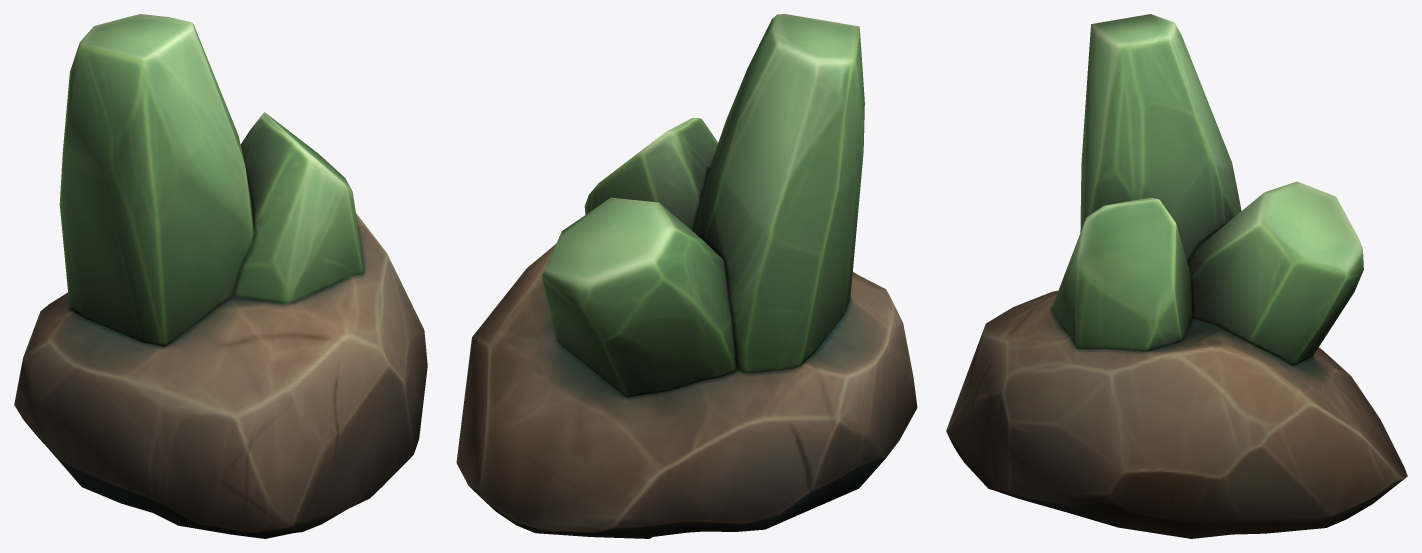
Rendered from SM_Gem_Jade_006.fbx.
3 views of the same model, side by side, from view 1: azimuth 30°, elevation 25°; view 2: azimuth 150°, elevation 25°; view 3: azimuth 270°, elevation 25° (orthographic). The views are drawn at different scales.
Visible parts, largest first — view 1: SM_Gem_Jade_006; view 2: SM_Gem_Jade_006; view 3: SM_Gem_Jade_006.
Boxes of the visible parts, x1,y1,x2,y2 form: SM_Gem_Jade_006: (14,14,427,538); SM_Gem_Jade_006: (456,14,917,538); SM_Gem_Jade_006: (946,14,1407,538).
Bounding box in the file's own units: 51.32 × 58.7 × 60.94.
